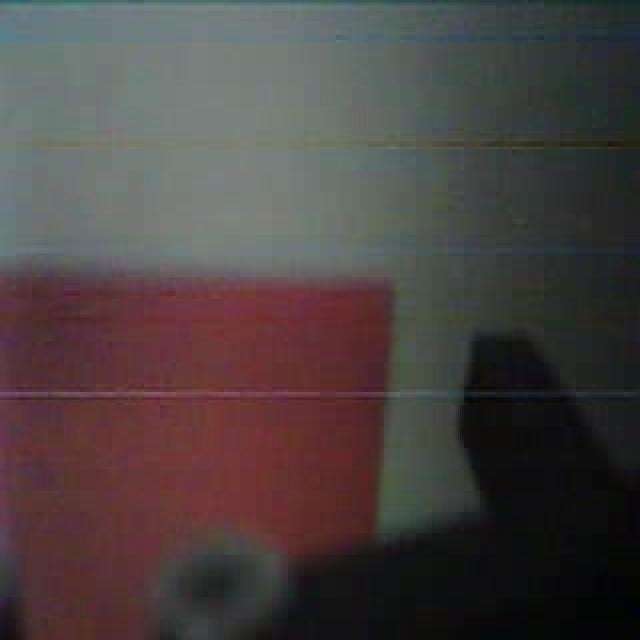red_box: (0, 262, 400, 638)
